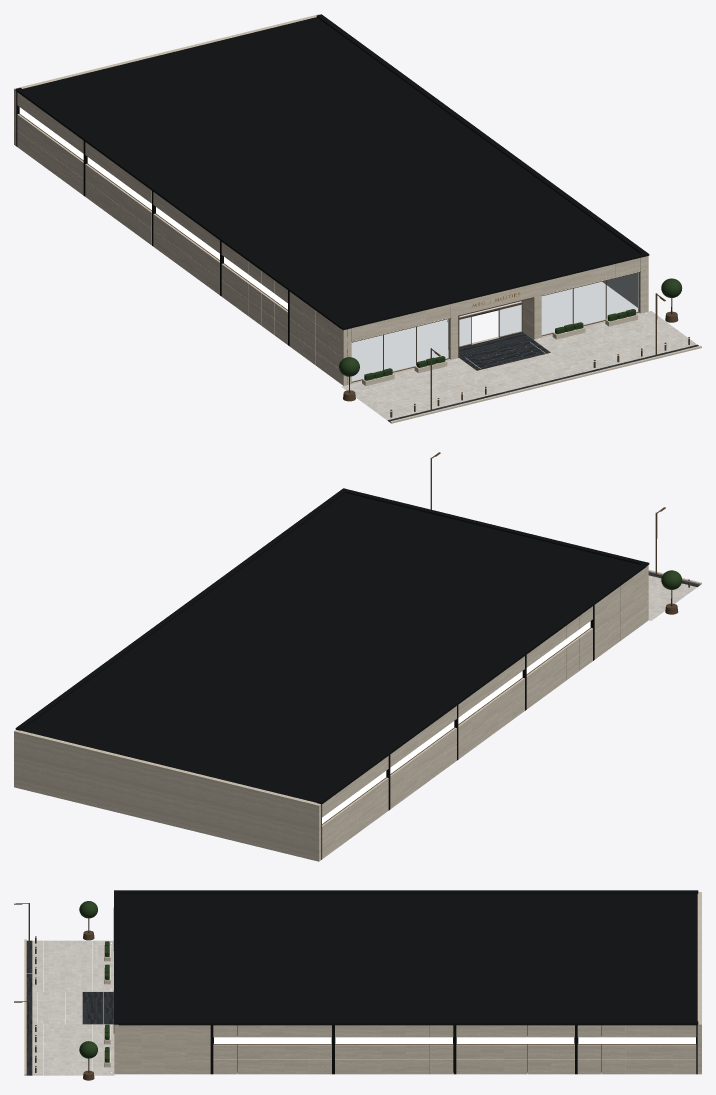
Rendered from room_facade.glb.
The picture shows the model from 3 angles, top to bottom: view 1: azimuth 30°, elevation 25°; view 2: azimuth 150°, elevation 25°; view 3: azimuth 270°, elevation 25°; orthographic projection. The views are drawn at different scales.
Parts seen in each view (by area): view 1: MTG_Roof, MTG_Walls, MTG_Floor, MTG_Glass_Vit1, MTG_Glass_Vit-1, MTG_SideCoping-1, MTG_SideCoping1, MTG_FacCoping, MTG_Reveals, MTG_FacBack, MTG_Curb; view 2: MTG_Roof, MTG_FacBack, MTG_Walls, MTG_SideCoping-1, MTG_SideCoping1, MTG_FacCoping, MTG_Floor, MTG_Reveals; view 3: MTG_Roof, MTG_Walls, MTG_Floor, MTG_SideCoping1, MTG_SideCoping-1, MTG_Reveals, MTG_FacBack, MTG_SideBand1_2, MTG_SideBand1_0, MTG_SideBand1_1, MTG_SideBand1_3, MTG_FacCoping (+1 smaller).
Part boxes in pixels (x1,y1,x2,y2): MTG_Roof: (16,17,639,328); MTG_Walls: (17,92,648,385); MTG_Floor: (341,311,698,422); MTG_Glass_Vit1: (541,273,638,335); MTG_Glass_Vit-1: (352,319,448,381); MTG_SideCoping-1: (15,87,348,330); MTG_SideCoping1: (316,14,649,256); MTG_FacCoping: (346,253,644,328); MTG_Reveals: (16,91,637,382); MTG_FacBack: (14,14,319,145); MTG_Curb: (390,345,701,423); MTG_Roof: (21,493,645,804); MTG_FacBack: (14,730,321,861); MTG_Walls: (322,565,648,859); MTG_SideCoping-1: (316,561,649,804); MTG_SideCoping1: (15,488,347,730); MTG_FacCoping: (345,489,643,564); MTG_Floor: (648,572,699,620); MTG_Reveals: (321,605,594,859); MTG_Roof: (119,893,697,1025); MTG_Walls: (114,1024,696,1074); MTG_Floor: (26,940,114,1075); MTG_SideCoping1: (114,1021,698,1024); MTG_SideCoping-1: (114,890,698,893); MTG_Reveals: (210,1025,697,1074); MTG_FacBack: (697,892,701,1074); MTG_SideBand1_2: (456,1037,574,1043); MTG_SideBand1_0: (214,1037,331,1043); MTG_SideBand1_1: (335,1037,452,1043); MTG_SideBand1_3: (578,1037,695,1043); MTG_FacCoping: (114,892,118,1021).
Size of the model in its own units: 37.5 by 6.61 by 73.65.
Materials: 18 (5 with a texture image).
